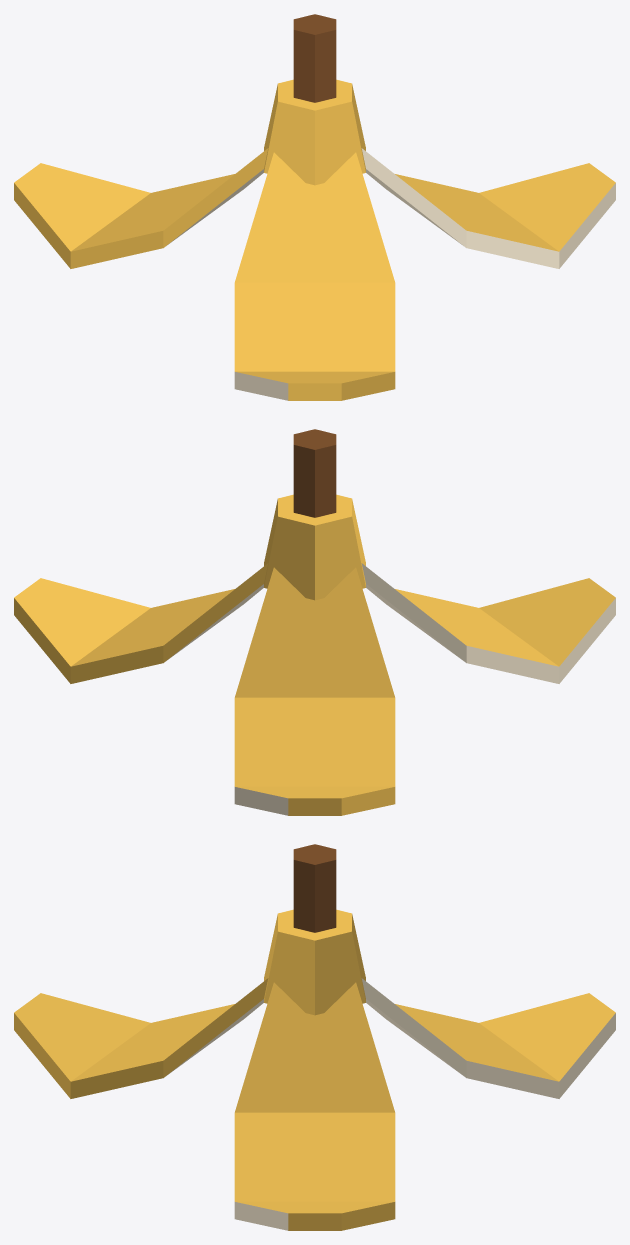
The model's file is 03-banana-peel.glb.
3 views of the same model, one above another, from view 1: azimuth 30°, elevation 25°; view 2: azimuth 150°, elevation 25°; view 3: azimuth 270°, elevation 25° (orthographic).
Parts seen in each view (by area): view 1: 03-banana-peel__PeelFlap_2, 03-banana-peel__PeelFlap_0, 03-banana-peel__PeelFlap_1, 03-banana-peel__Neck, 03-banana-peel__Stem; view 2: 03-banana-peel__PeelFlap_1, 03-banana-peel__PeelFlap_0, 03-banana-peel__PeelFlap_2, 03-banana-peel__Neck, 03-banana-peel__Stem; view 3: 03-banana-peel__PeelFlap_0, 03-banana-peel__PeelFlap_1, 03-banana-peel__PeelFlap_2, 03-banana-peel__Neck, 03-banana-peel__Stem.
Boxes of the visible parts, x1=… form: 03-banana-peel__PeelFlap_2: x1=234, y1=152, x2=395, y2=400; 03-banana-peel__PeelFlap_0: x1=361, y1=148, x2=615, y2=268; 03-banana-peel__PeelFlap_1: x1=14, y1=148, x2=268, y2=268; 03-banana-peel__Neck: x1=264, y1=79, x2=365, y2=185; 03-banana-peel__Stem: x1=293, y1=14, x2=336, y2=102; 03-banana-peel__PeelFlap_1: x1=234, y1=567, x2=395, y2=815; 03-banana-peel__PeelFlap_0: x1=14, y1=563, x2=268, y2=683; 03-banana-peel__PeelFlap_2: x1=361, y1=563, x2=615, y2=683; 03-banana-peel__Neck: x1=264, y1=494, x2=365, y2=600; 03-banana-peel__Stem: x1=293, y1=429, x2=336, y2=517; 03-banana-peel__PeelFlap_0: x1=234, y1=982, x2=395, y2=1230; 03-banana-peel__PeelFlap_1: x1=361, y1=978, x2=615, y2=1098; 03-banana-peel__PeelFlap_2: x1=14, y1=978, x2=268, y2=1098; 03-banana-peel__Neck: x1=264, y1=909, x2=365, y2=1015; 03-banana-peel__Stem: x1=293, y1=844, x2=336, y2=932.
Bounding box in the file's own units: 0.4867 × 0.273 × 0.5619.
